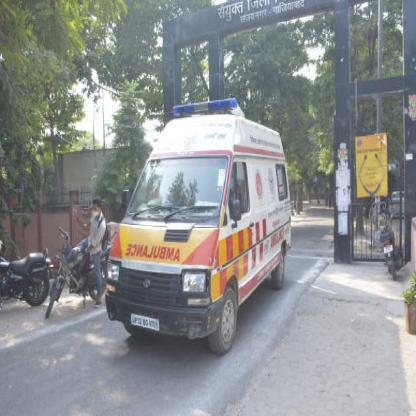priority: (108, 97, 292, 349)
